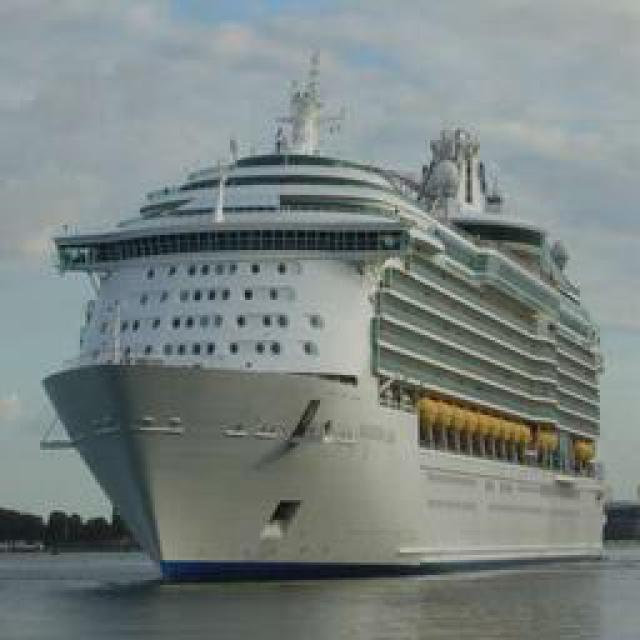Ship: (26, 70, 614, 583)
